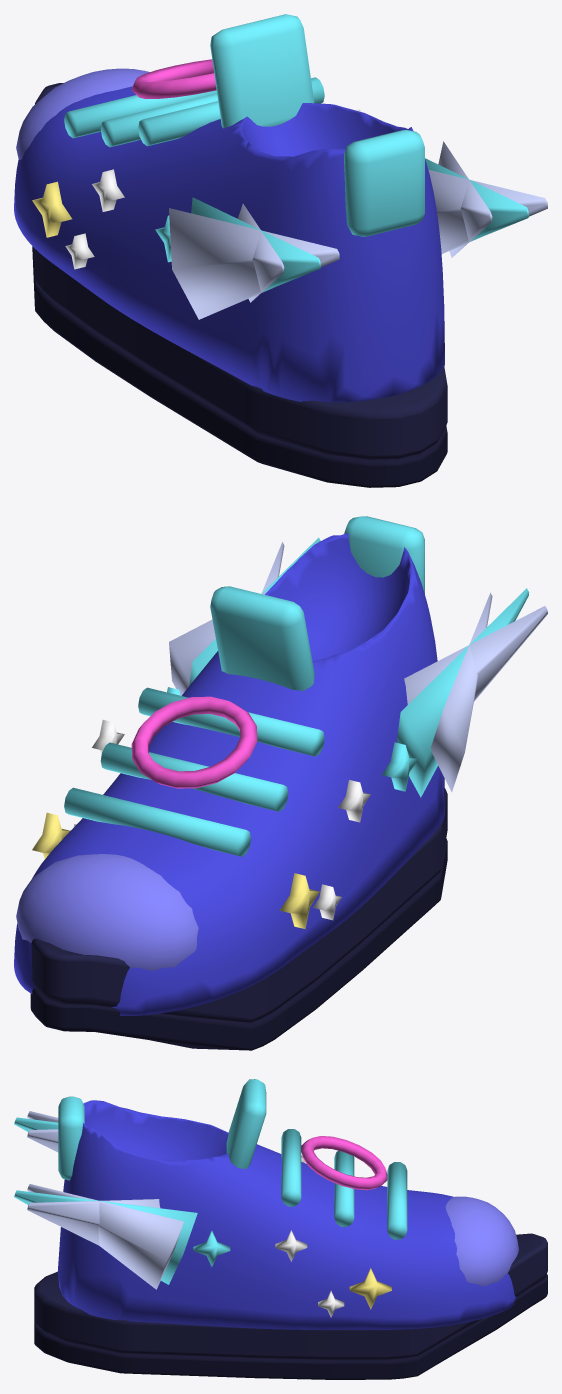
The model's file is shoe_galaxygliders.fbx.
3 renders of one model, top to bottom at view 1: azimuth 30°, elevation 25°; view 2: azimuth 150°, elevation 25°; view 3: azimuth 270°, elevation 25°, orthographic. The views are drawn at different scales.
Visible parts, largest first — view 1: shoe_galaxygliders; view 2: shoe_galaxygliders; view 3: shoe_galaxygliders.
Part boxes in pixels (x1,y1,x2,y2): shoe_galaxygliders: (14,14,547,487); shoe_galaxygliders: (14,516,547,1050); shoe_galaxygliders: (14,1079,547,1379).
Size of the model in its own units: 1.83 by 2.1 by 4.03.
1 material, 1 textured.
